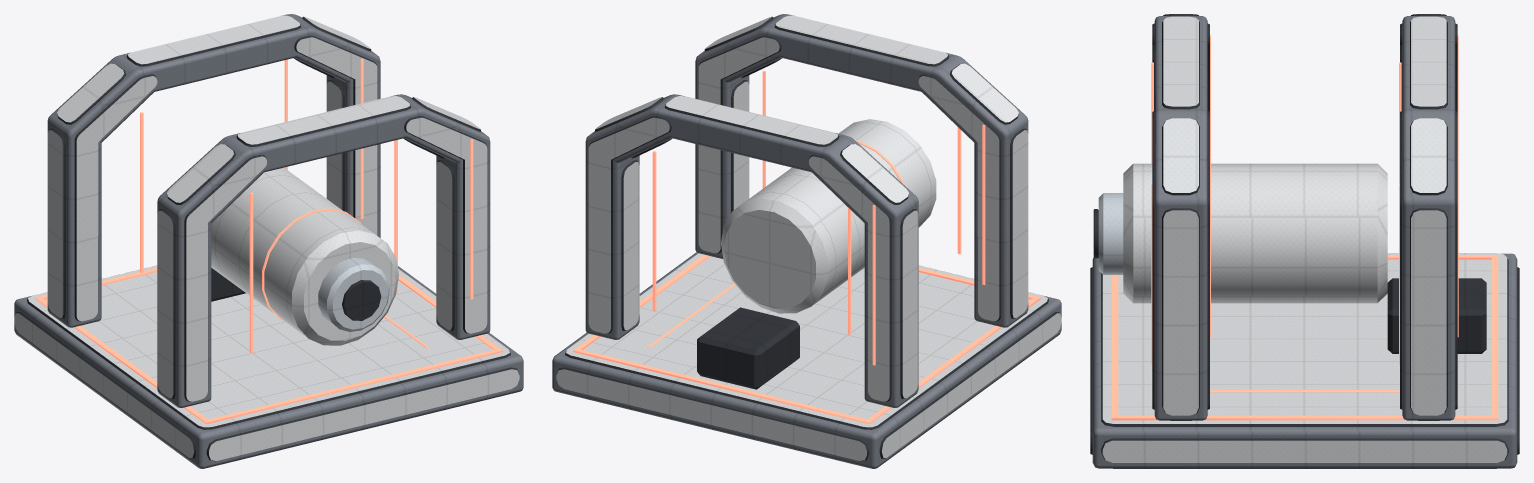
Rendered from R4X_WeaponDurabilityBooster.glb.
3 views of the same model, side by side, from view 1: azimuth 30°, elevation 25°; view 2: azimuth 150°, elevation 25°; view 3: azimuth 270°, elevation 25° (orthographic). The views are drawn at different scales.
Visible parts, largest first — view 1: R4X_WeaponDurabilityBooster_Body; view 2: R4X_WeaponDurabilityBooster_Body; view 3: R4X_WeaponDurabilityBooster_Body.
Part boxes in pixels (bbox=[...]): R4X_WeaponDurabilityBooster_Body: bbox=[14, 14, 523, 468]; R4X_WeaponDurabilityBooster_Body: bbox=[552, 14, 1061, 468]; R4X_WeaponDurabilityBooster_Body: bbox=[1090, 14, 1519, 468].
Size of the model in its own units: 0.52 by 0.43 by 0.52.
Materials: 5 (4 with a texture image).
